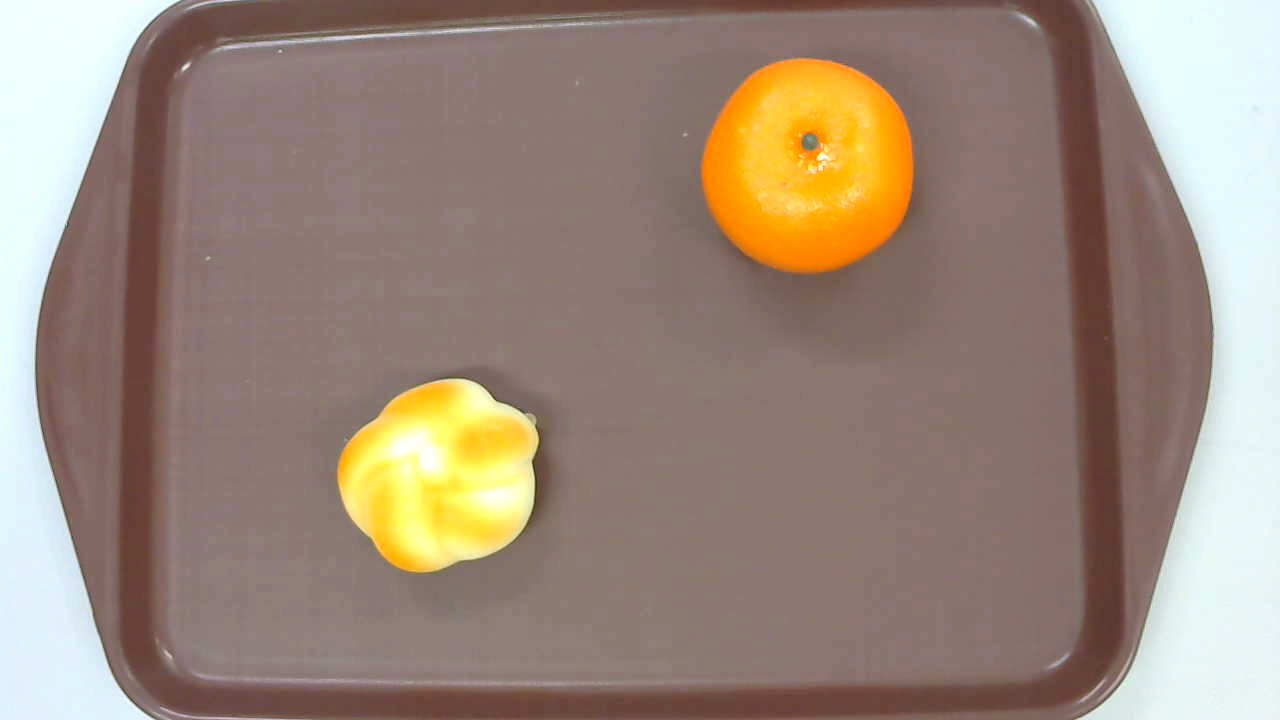orange: (700, 55, 913, 275)
twist bread: (336, 378, 541, 573)
